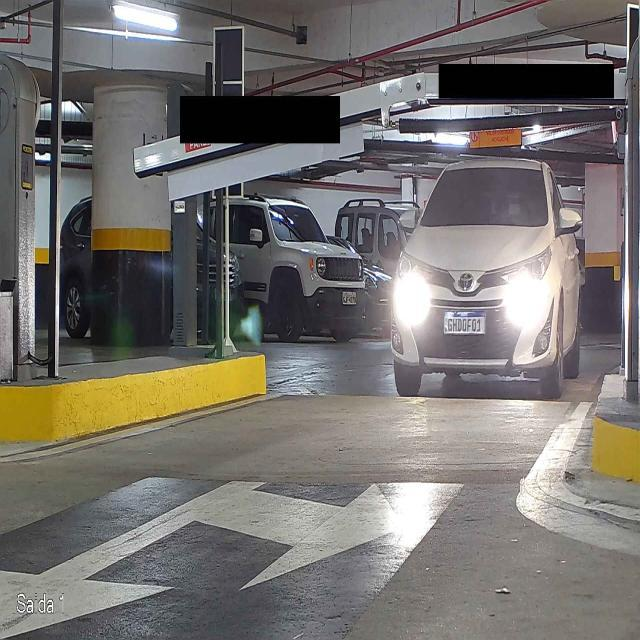mercosul_plate: (442, 310, 488, 337)
